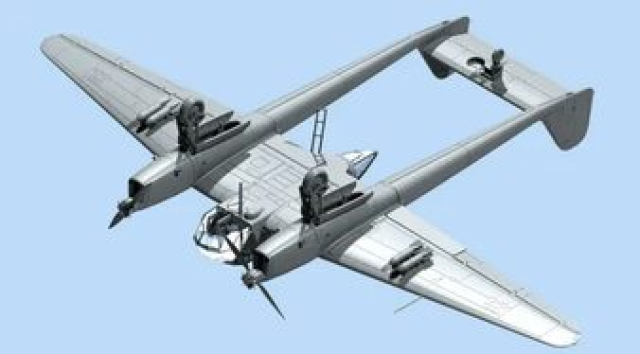military drone: (38, 0, 594, 348)
